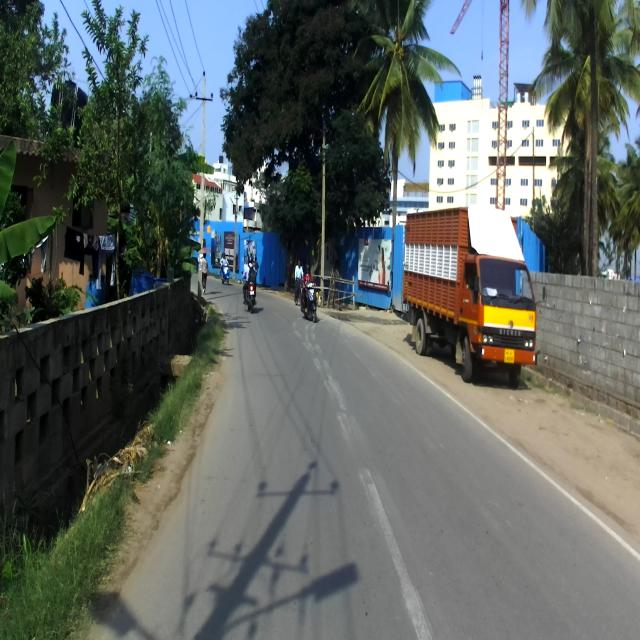electric pole ahead at: (192, 66, 216, 308)
truck ahead at: (400, 204, 540, 382)
